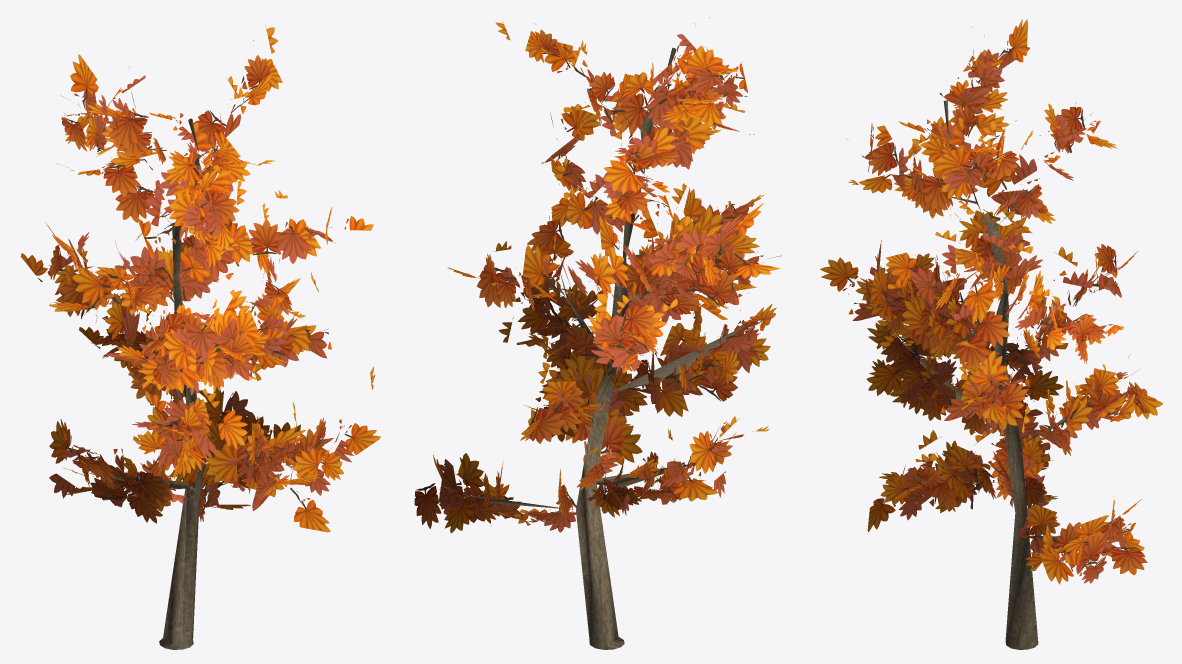
3 views of the same model, side by side, from view 1: azimuth 30°, elevation 25°; view 2: azimuth 150°, elevation 25°; view 3: azimuth 270°, elevation 25° (orthographic). The views are drawn at different scales.
Parts seen in each view (by area): view 1: m1, m0; view 2: m1, m0; view 3: m1, m0.
Boxes of the visible parts, <box> form: m1: <box>20,24,380,532</box>; m0: <box>56,40,344,649</box>; m1: <box>414,20,779,533</box>; m0: <box>441,17,781,649</box>; m1: <box>820,19,1163,584</box>; m0: <box>847,27,1136,649</box>.
Size of the model in its own units: 5.22 by 10.04 by 5.51.
2 materials, 2 textured.
